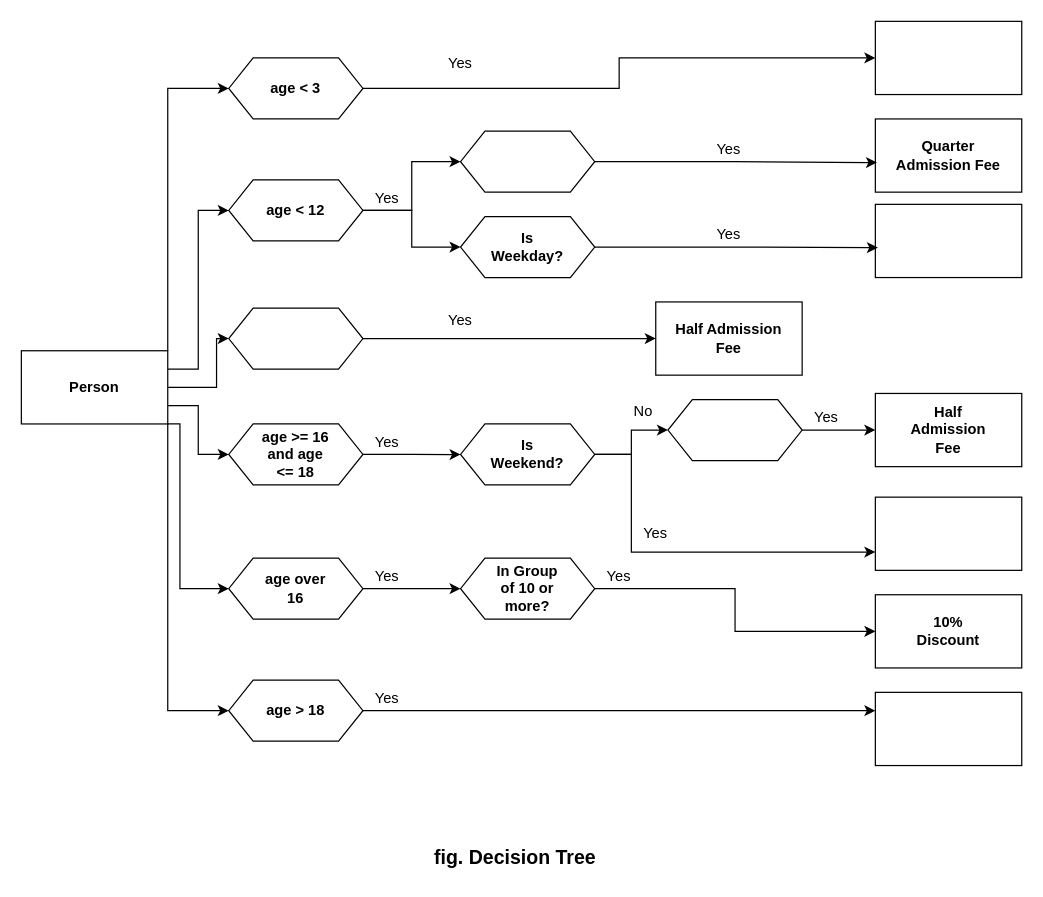
The diagram is 1043 pixels wide and 897 high, and some of its shapes have lost their labels. The centre of each missing label's shape, as x and y in pixels:
"1 Free RIde" goes at point (948, 240).
"Accompanied by Adult?" goes at point (527, 161).
"age < 16" goes at point (295, 338).
"Full Admission Fee" goes at point (948, 728).
"Is Student?" goes at point (734, 429).
"No Admission Fee" goes at point (948, 57).
"No Student Confession" goes at point (948, 533).
